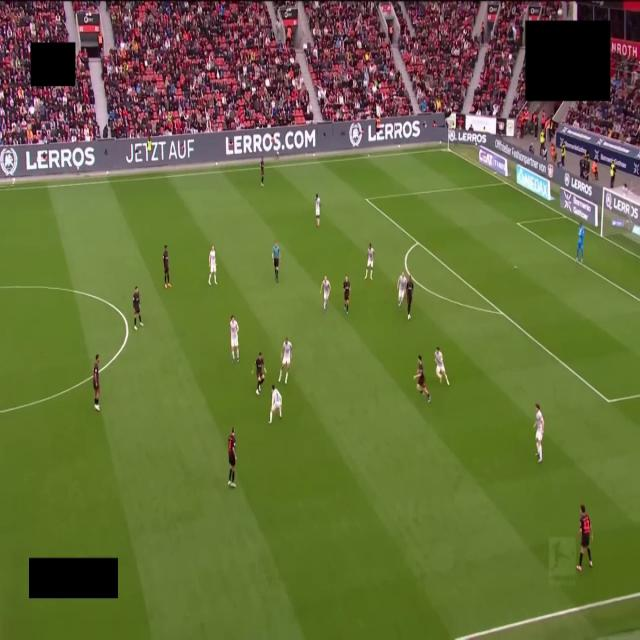player: (577, 505, 592, 571), (414, 356, 430, 402), (279, 337, 292, 383), (534, 404, 544, 463), (435, 347, 449, 385), (228, 429, 236, 487), (254, 352, 265, 394), (269, 385, 281, 423), (133, 287, 143, 330), (230, 315, 238, 362), (397, 272, 407, 308), (576, 223, 585, 263), (93, 354, 99, 411), (163, 246, 171, 288), (365, 244, 374, 279), (321, 276, 330, 311), (406, 275, 413, 319), (343, 276, 351, 314), (209, 246, 216, 285), (315, 194, 320, 227), (260, 157, 264, 187)
referee: (272, 242, 280, 282)
